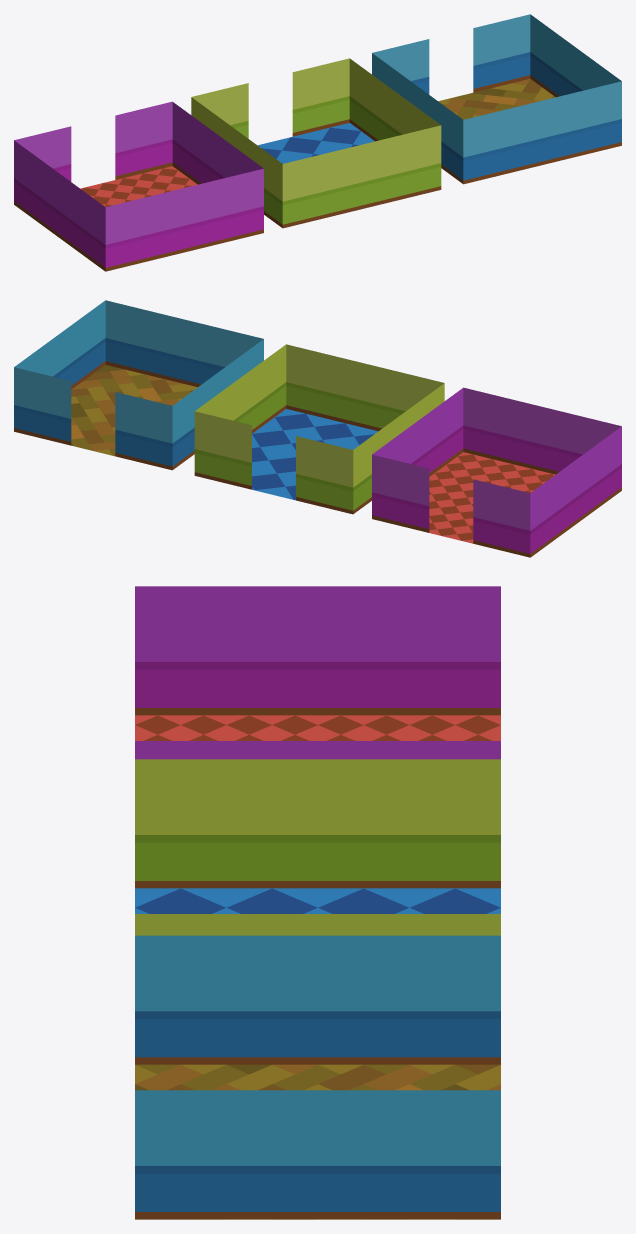
Rendered from Room1.fbx.
The picture shows the model from 3 angles, top to bottom: view 1: azimuth 30°, elevation 25°; view 2: azimuth 150°, elevation 25°; view 3: azimuth 270°, elevation 25°; orthographic projection. The views are drawn at different scales.
Visible parts, largest first — view 1: Room1InsideIndex2, Room1InsideIndex0, Room1InsideIndex1; view 2: Room1InsideIndex2, Room1InsideIndex0, Room1InsideIndex1; view 3: Room1InsideIndex0, Room1InsideIndex1, Room1InsideIndex2.
Part boxes in pixels (<box>): Room1InsideIndex2: <box>14,101,263,271</box>; Room1InsideIndex0: <box>372,14,621,184</box>; Room1InsideIndex1: <box>191,58,441,228</box>; Room1InsideIndex2: <box>372,387,621,557</box>; Room1InsideIndex0: <box>14,300,263,470</box>; Room1InsideIndex1: <box>194,344,444,514</box>; Room1InsideIndex0: <box>135,935,500,1219</box>; Room1InsideIndex1: <box>135,759,500,935</box>; Room1InsideIndex2: <box>135,586,500,759</box>.
Bounding box in the file's own units: 1760 × 210 × 540.
